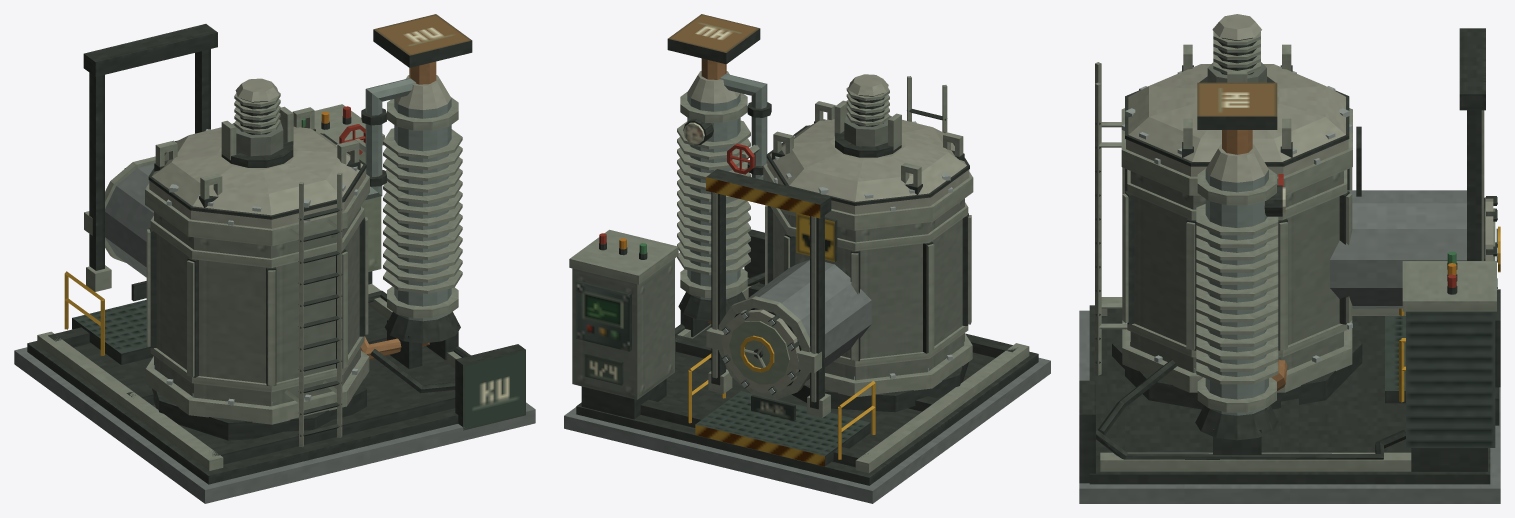
Rendered from irradiation_reactor_redrawn.obj.
The picture shows the model from 3 angles, left to right: view 1: azimuth 30°, elevation 25°; view 2: azimuth 150°, elevation 25°; view 3: azimuth 270°, elevation 25°; orthographic projection. The views are drawn at different scales.
Visible parts, largest first — view 1: shield_rear, foundation, vessel_lid, bands_rear, cooling_tower, base_frame, cooling_fins, door_guides, ku_port, access_ladder, ribs_rear, loading_lock (+11 smaller); view 2: foundation, control_cabinet, vessel_lid, shield_front, door_guides, loading_lock, base_frame, cooling_tower, service_deck, cooling_fins, bands_front, door_panel (+18 smaller); view 3: foundation, control_cabinet, vessel_lid, cooling_tower, loading_lock, cooling_fins, shield_rear, base_frame, shield_front, bands_rear, door_guides, bands_front (+14 smaller).
Part boxes in pixels (<box>): shield_rear: <box>154,207,360,406</box>; foundation: <box>14,305,535,503</box>; vessel_lid: <box>148,126,366,228</box>; bands_rear: <box>145,174,369,424</box>; cooling_tower: <box>384,75,460,368</box>; base_frame: <box>37,283,461,470</box>; cooling_fins: <box>383,128,462,293</box>; door_guides: <box>83,24,217,291</box>; ku_port: <box>455,344,525,430</box>; access_ladder: <box>284,172,342,447</box>; ribs_rear: <box>187,217,368,385</box>; loading_lock: <box>105,156,155,277</box>; foundation: <box>564,325,1050,503</box>; control_cabinet: <box>569,229,678,419</box>; vessel_lid: <box>766,119,969,214</box>; shield_front: <box>773,209,927,380</box>; door_guides: <box>706,169,831,417</box>; loading_lock: <box>718,259,871,399</box>; base_frame: <box>640,277,1029,473</box>; cooling_tower: <box>678,71,747,336</box>; service_deck: <box>695,391,870,466</box>; cooling_fins: <box>677,120,750,275</box>; bands_front: <box>763,166,932,396</box>; door_panel: <box>706,309,821,392</box>; foundation: <box>1079,305,1500,503</box>; control_cabinet: <box>1402,261,1496,471</box>; vessel_lid: <box>1125,64,1349,176</box>; cooling_tower: <box>1195,144,1279,454</box>; loading_lock: <box>1330,190,1485,308</box>; cooling_fins: <box>1196,204,1278,384</box>; shield_rear: <box>1130,171,1281,372</box>; base_frame: <box>1100,297,1411,471</box>; shield_front: <box>1281,171,1343,370</box>; bands_rear: <box>1121,108,1285,392</box>; door_guides: <box>1459,28,1485,260</box>; bands_front: <box>1283,108,1352,392</box>.
Size of the model in its own units: 4 by 4 by 4.
1 material, 1 textured.
